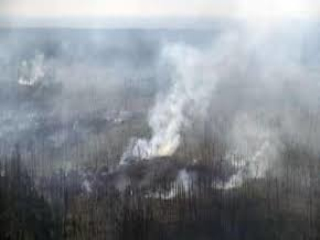smoke: (117, 48, 203, 169), (202, 138, 284, 191), (140, 169, 196, 201)
